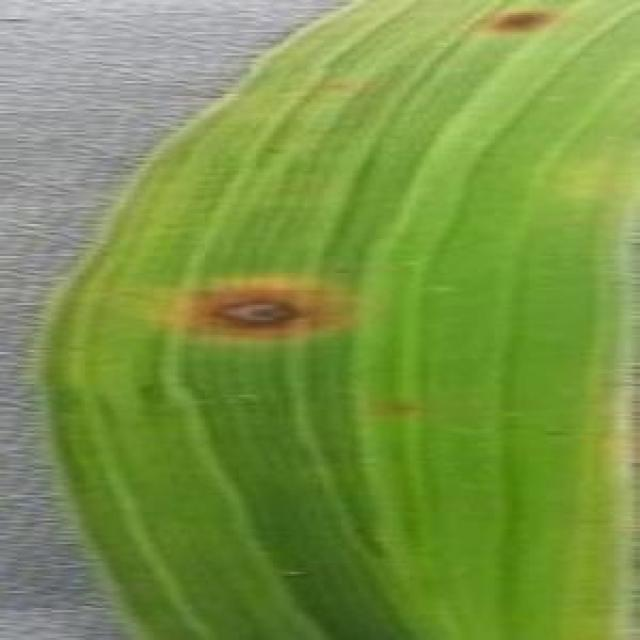Brown_Spot: (183, 276, 338, 354), (478, 2, 569, 53), (376, 382, 422, 431)
